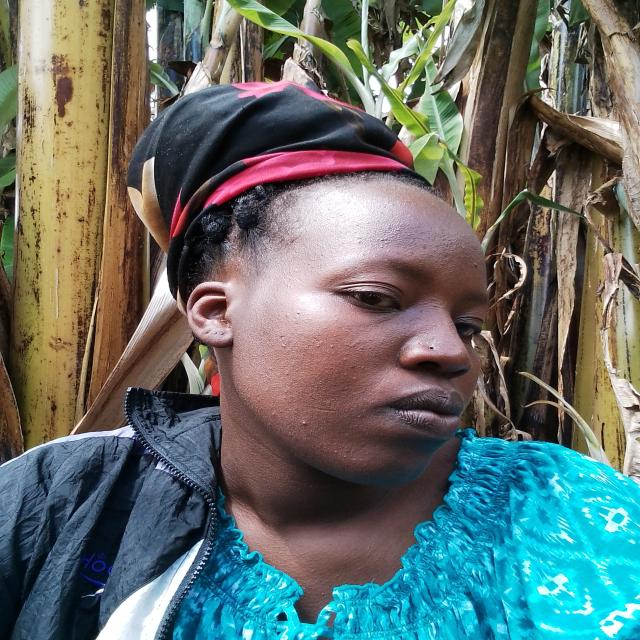Dry-Skin: (369, 222, 425, 250)
